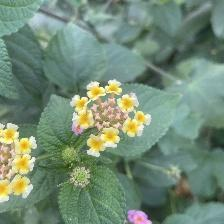common lanthana: (69, 77, 153, 156)
